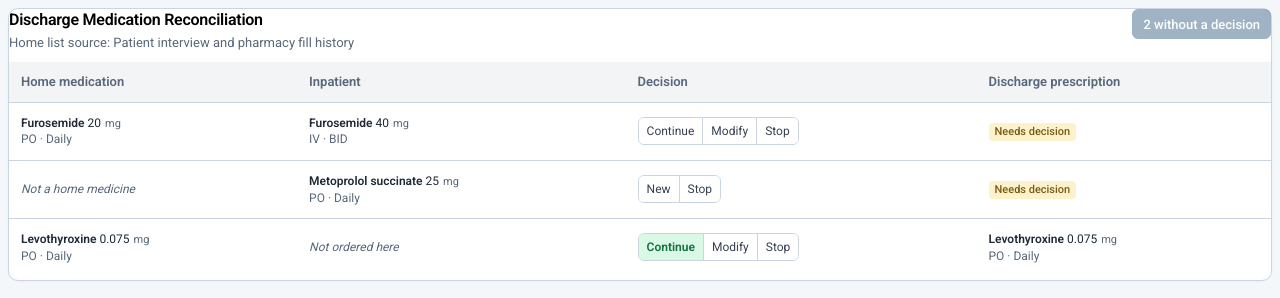
Test: MedReconciliation › shows the discharge prescription per decision and writes doses the ISMP way
Check: the 1st text "0.075" is shown, box [99,231,130,247]
Click the radio button labelled "Stop" in the row of "20".
click(777, 131)  # box [756,118,798,144]
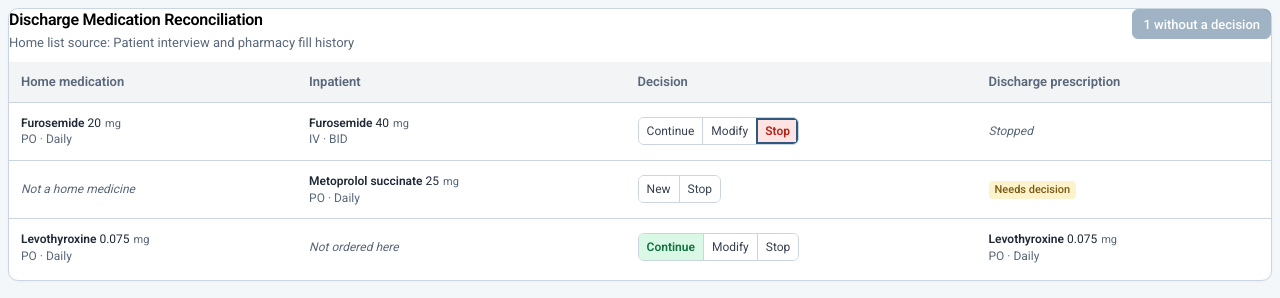
Check: the text "Stopped" is shown, box [988,124,1033,138]
